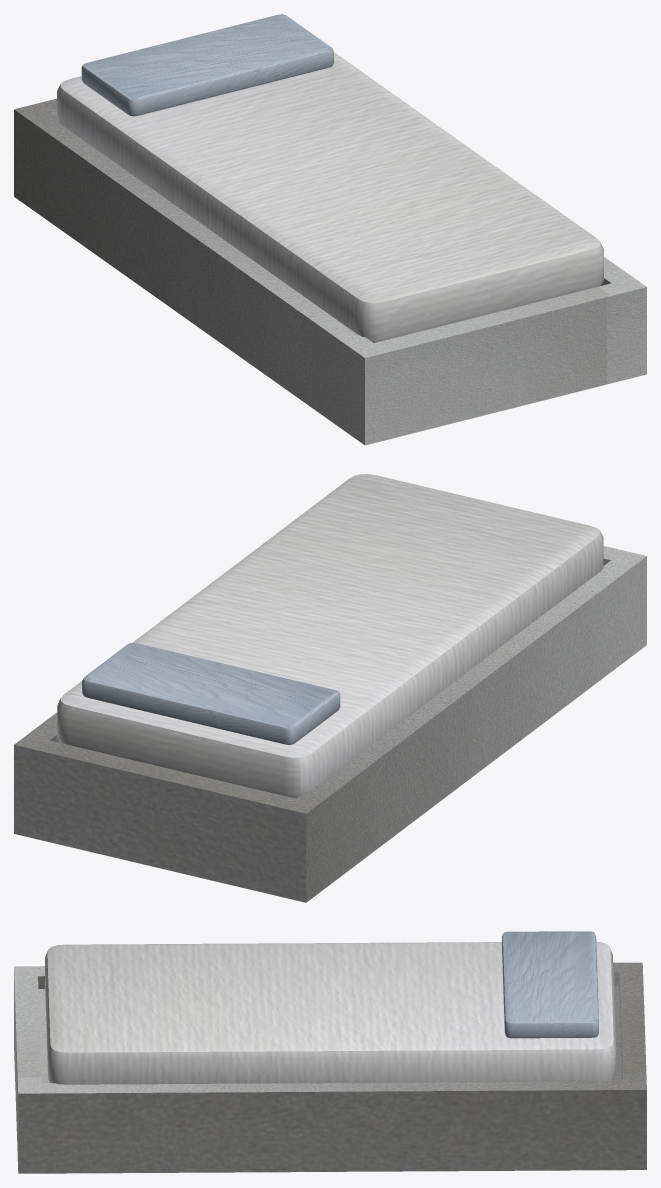
File: LivingQuarters_Bed_Unwrapped.fbx
The picture shows the model from 3 angles, top to bottom: view 1: azimuth 30°, elevation 25°; view 2: azimuth 150°, elevation 25°; view 3: azimuth 270°, elevation 25°; orthographic projection. The views are drawn at different scales.
Parts seen in each view (by area): view 1: Matress001, BedFrame001, Pillow001; view 2: Matress001, BedFrame001, Pillow001; view 3: Matress001, BedFrame001, Pillow001.
Boxes of the visible parts, bbox=[...] form: Matress001: bbox=[57, 52, 603, 342]; BedFrame001: bbox=[14, 98, 646, 445]; Pillow001: bbox=[81, 14, 333, 116]; Matress001: bbox=[57, 474, 603, 798]; BedFrame001: bbox=[14, 546, 646, 902]; Pillow001: bbox=[82, 643, 340, 744]; Matress001: bbox=[45, 941, 615, 1084]; BedFrame001: bbox=[14, 962, 646, 1173]; Pillow001: bbox=[502, 931, 598, 1038].
Bounding box in the file's own units: 65.5 × 30.41 × 134.
